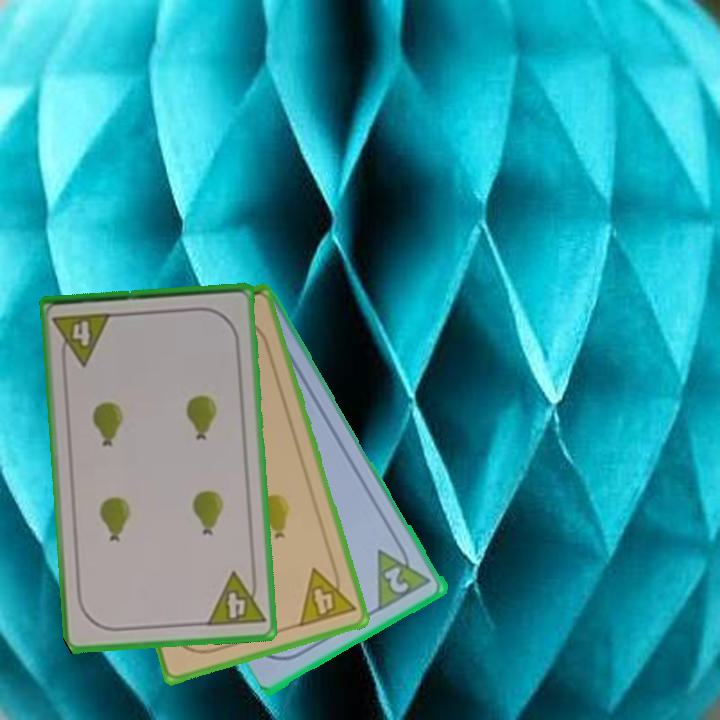2p: (381, 563, 413, 597)
4p: (295, 559, 358, 630), (203, 567, 268, 630), (50, 309, 115, 369)
